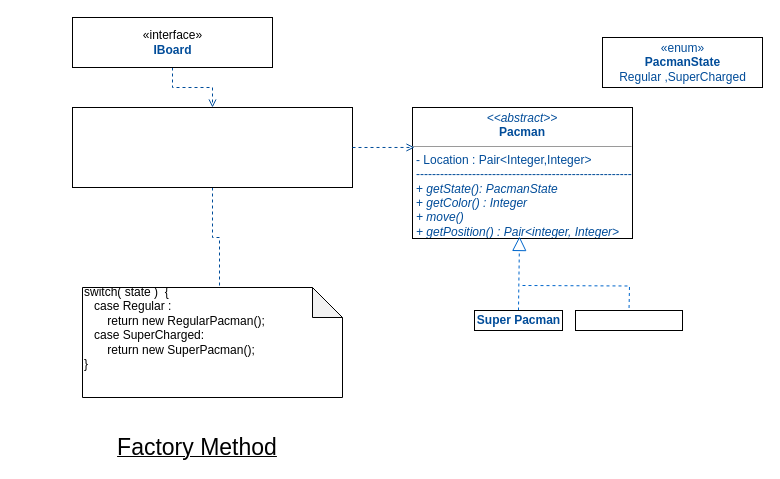
The diagram is 780 pixels wide and 479 high, and some of its shapes have lost their labels. The centre of each missing label's shape, as x and y in pixels:
PacmanFactory + CreatePacman(PacmanState state) : Pacman: the point at 212,147
Regular Pacman: the point at 628,320
